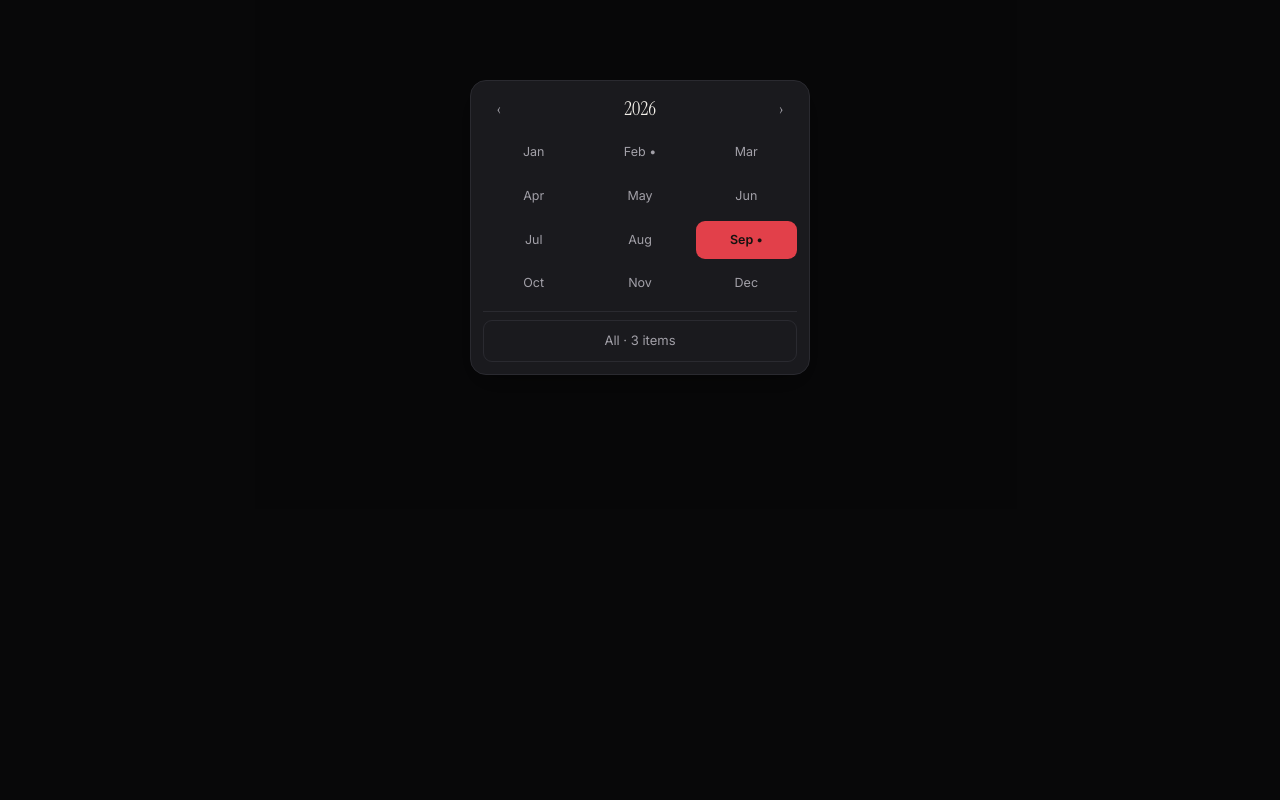
the month picker › pages through years
Click the button named "Previous year" at [499, 109], box [483, 93, 515, 125]
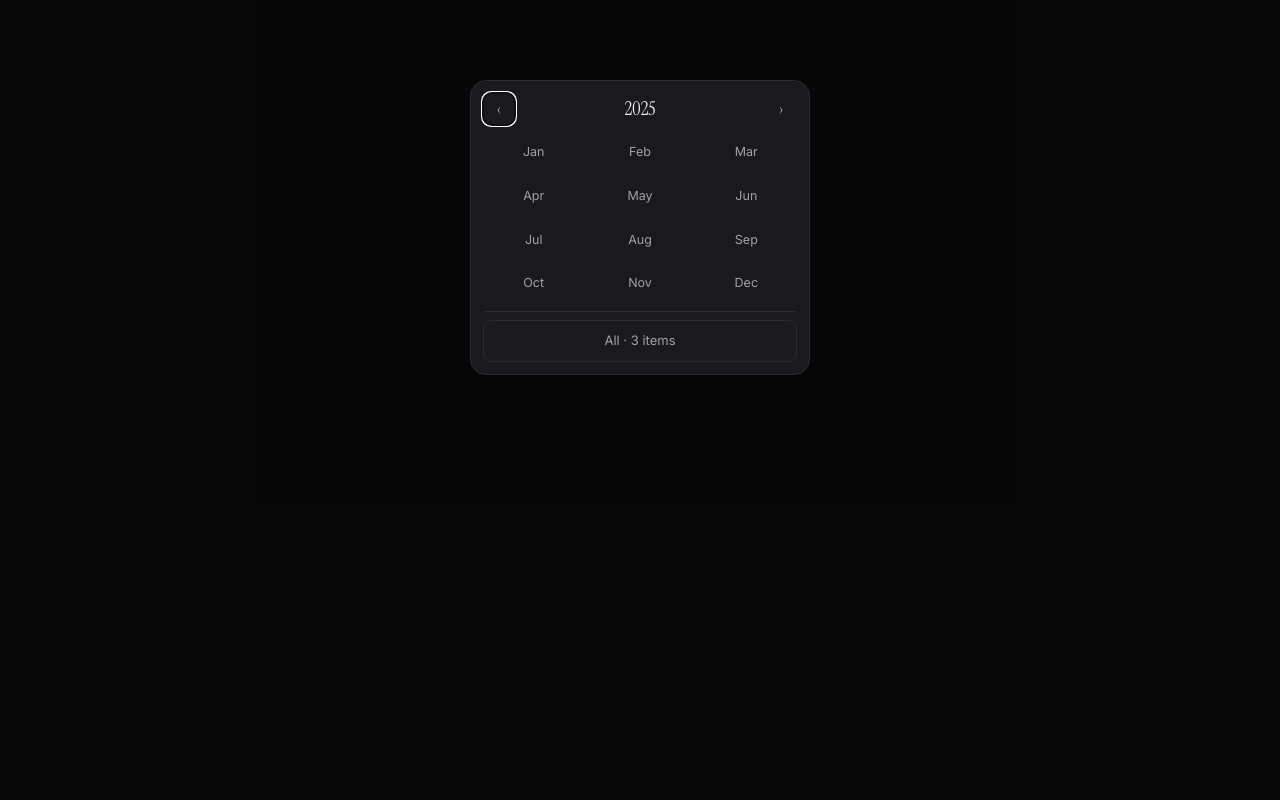
Expected: the text "2025" is shown, [624, 95, 656, 123]
Click the button named "Next year" at [781, 109], box [765, 93, 797, 125]
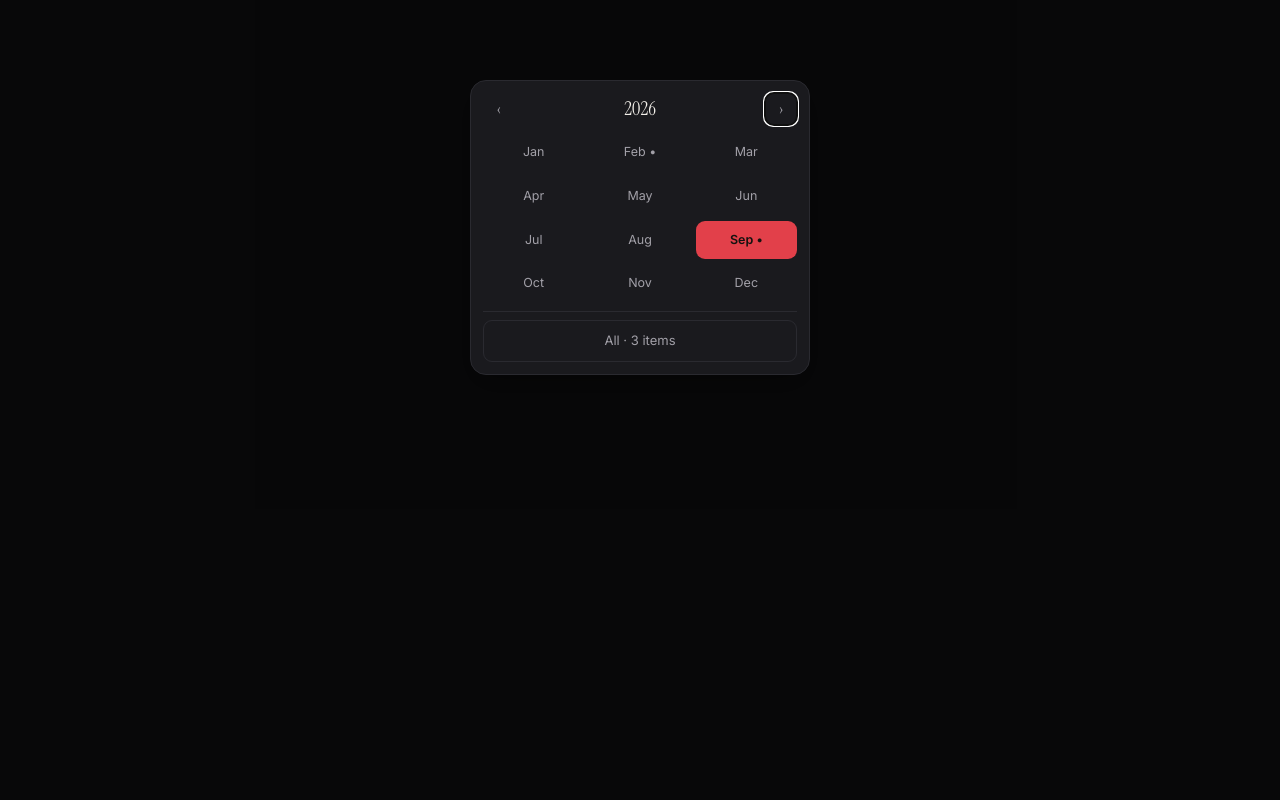
Click the button named "Next year" at [781, 109], box [765, 93, 797, 125]
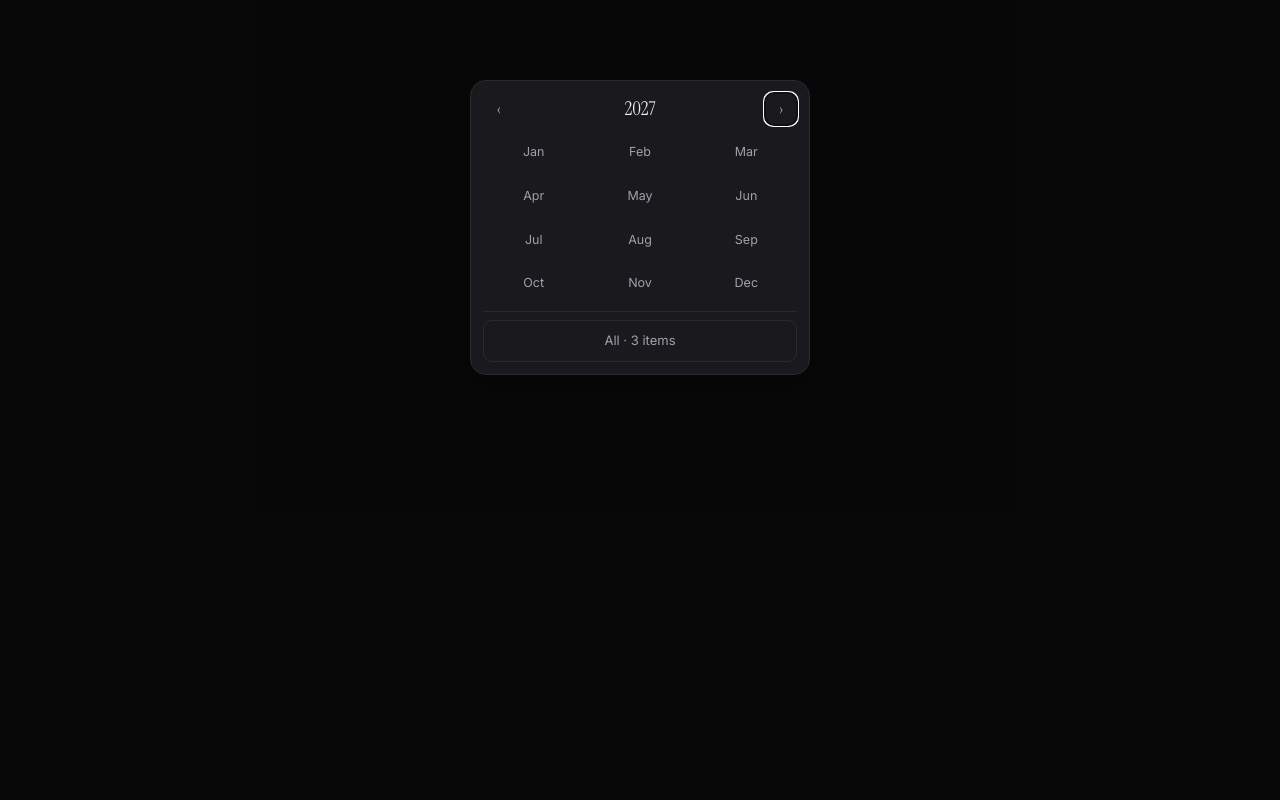
Expected: the text "2027" is shown, [624, 95, 655, 123]
